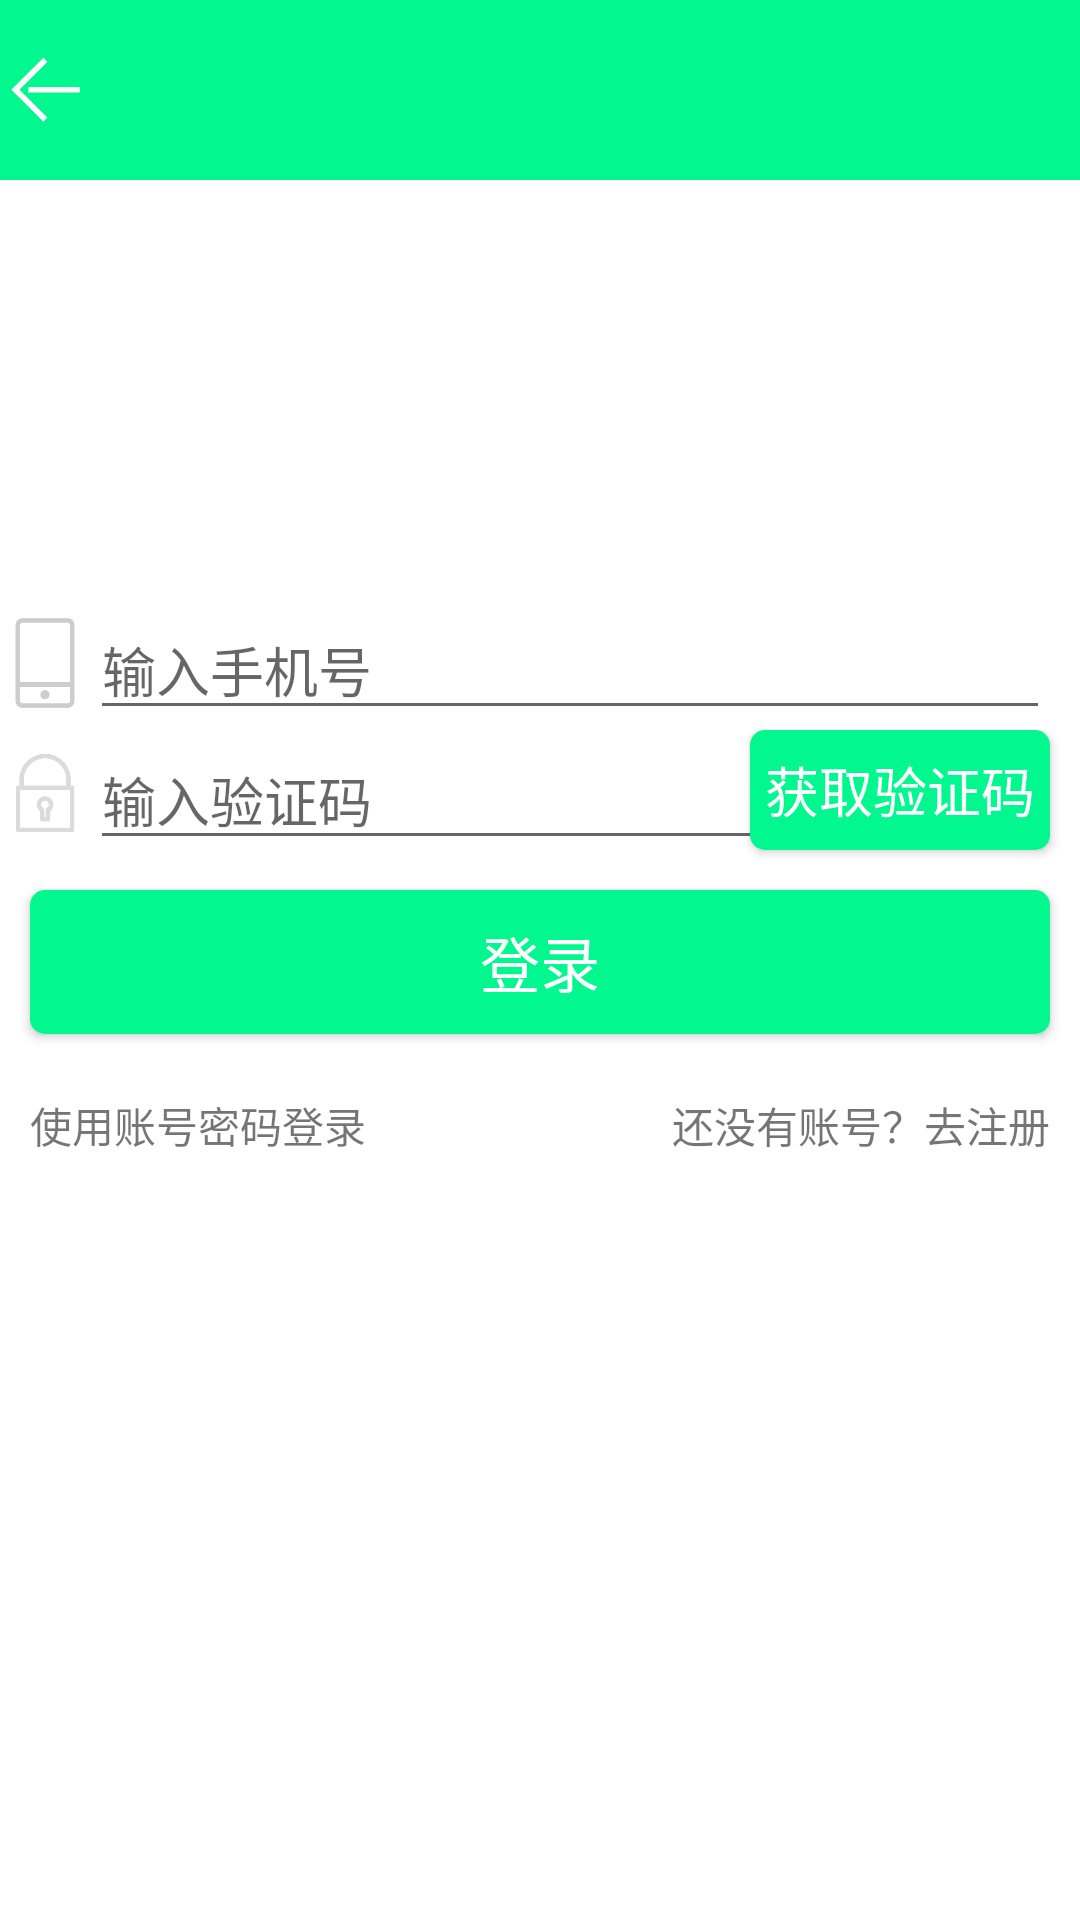

Icons on this 1080×1920 Android screen, each with its box as (x1, y1, x2, y2):
back: (11, 57, 80, 122)
password: (16, 754, 74, 832)
phone: (15, 618, 75, 708)
